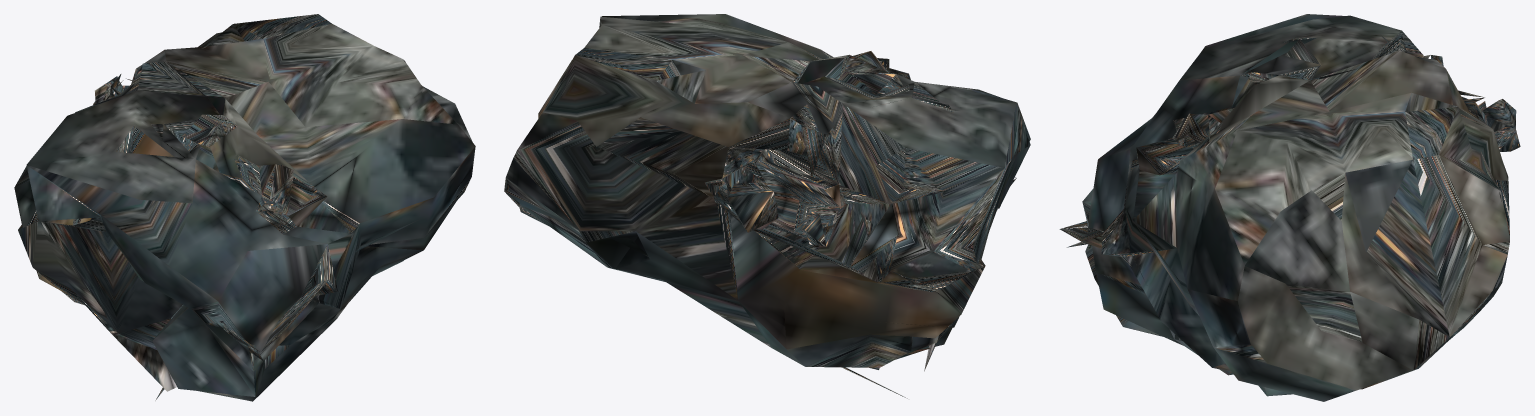
Rendered from na-rock-b-lite.glb.
The picture shows the model from 3 angles, left to right: view 1: azimuth 30°, elevation 25°; view 2: azimuth 150°, elevation 25°; view 3: azimuth 270°, elevation 25°; orthographic projection. The views are drawn at different scales.
Parts seen in each view (by area): view 1: geometry_0; view 2: geometry_0; view 3: geometry_0.
Part boxes in pixels (x1,y1,x2,y2): geometry_0: (14, 14, 475, 401); geometry_0: (504, 14, 1030, 398); geometry_0: (1059, 14, 1520, 401).
Bounding box in the file's own units: 0.9308 × 0.6386 × 0.7617.
1 material, 1 textured.
